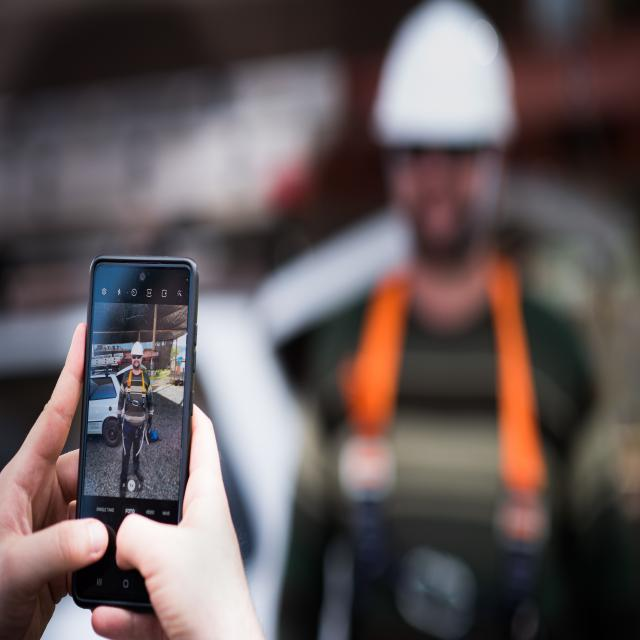botas: (133, 463, 144, 483)
capacete: (130, 340, 144, 356)
corda de vida: (123, 366, 147, 459)
luva: (144, 414, 154, 432), (116, 411, 122, 430)
